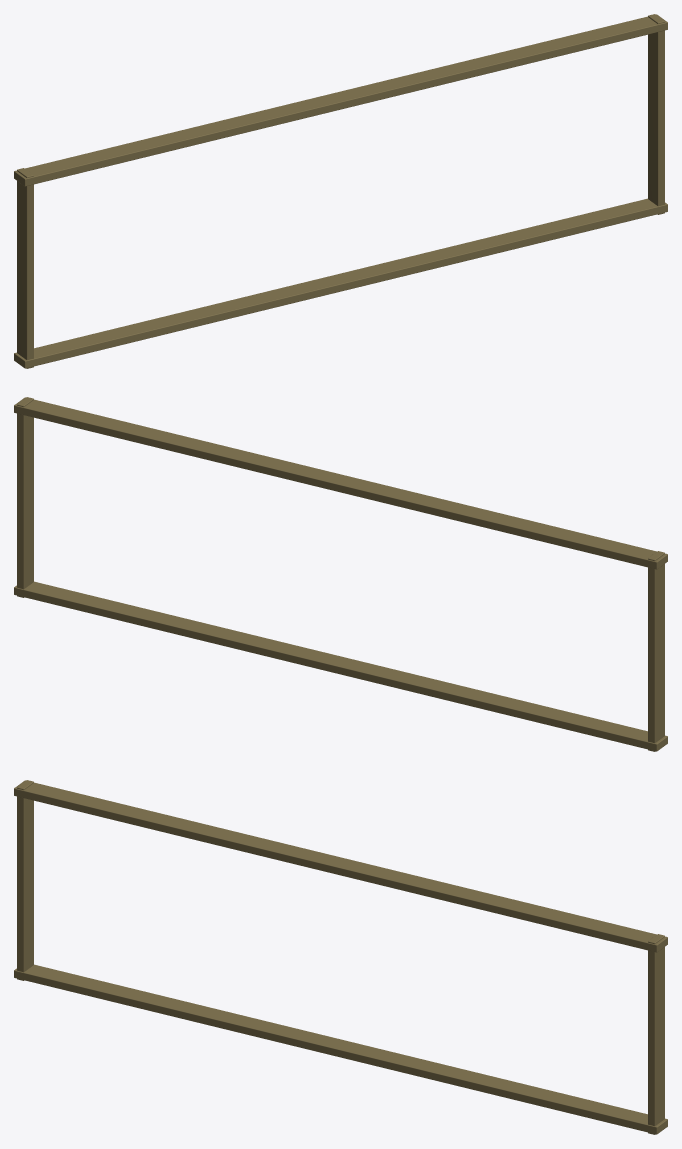
The model's file is temple-opening-frame.glb.
The picture shows the model from 3 angles, top to bottom: view 1: azimuth 30°, elevation 25°; view 2: azimuth 150°, elevation 25°; view 3: azimuth 330°, elevation 25°; orthographic projection.
Visible parts, largest first — view 1: temple-opening-frame - Room Review trim runtime PBR; view 2: temple-opening-frame - Room Review trim runtime PBR; view 3: temple-opening-frame - Room Review trim runtime PBR.
Boxes of the visible parts, <box> form: temple-opening-frame - Room Review trim runtime PBR: <box>14,14,667,368</box>; temple-opening-frame - Room Review trim runtime PBR: <box>14,397,667,751</box>; temple-opening-frame - Room Review trim runtime PBR: <box>14,780,667,1134</box>.
Bounding box in the file's own units: 7.95 × 2.27 × 0.24.
